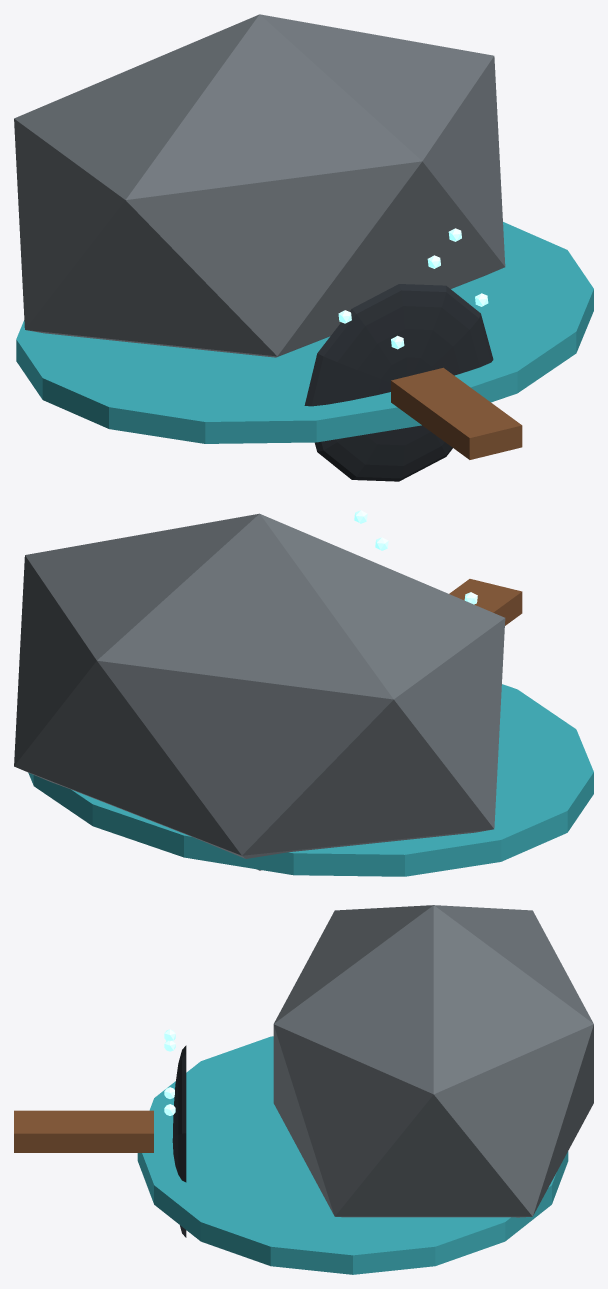
File: glowworm_cave.glb
3 views of the same model, one above another, from view 1: azimuth 30°, elevation 25°; view 2: azimuth 150°, elevation 25°; view 3: azimuth 270°, elevation 25° (orthographic). The views are drawn at different scales.
Parts seen in each view (by area): view 1: CLCave; view 2: CLCave; view 3: CLCave.
Boxes of the visible parts, x1,y1,x2,y2 form: CLCave: (14, 14, 593, 481); CLCave: (14, 510, 593, 876); CLCave: (14, 905, 593, 1274).
Size of the model in its own units: 1 by 0.665 by 1.08.
